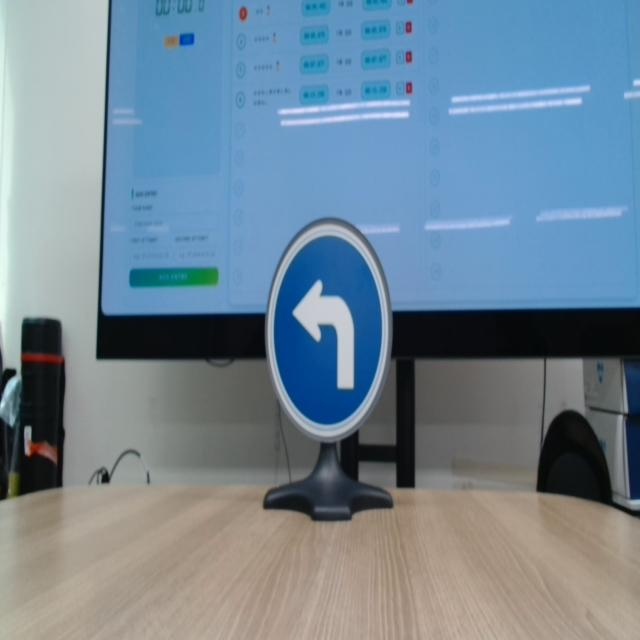left_direction: (262, 207, 408, 436)
